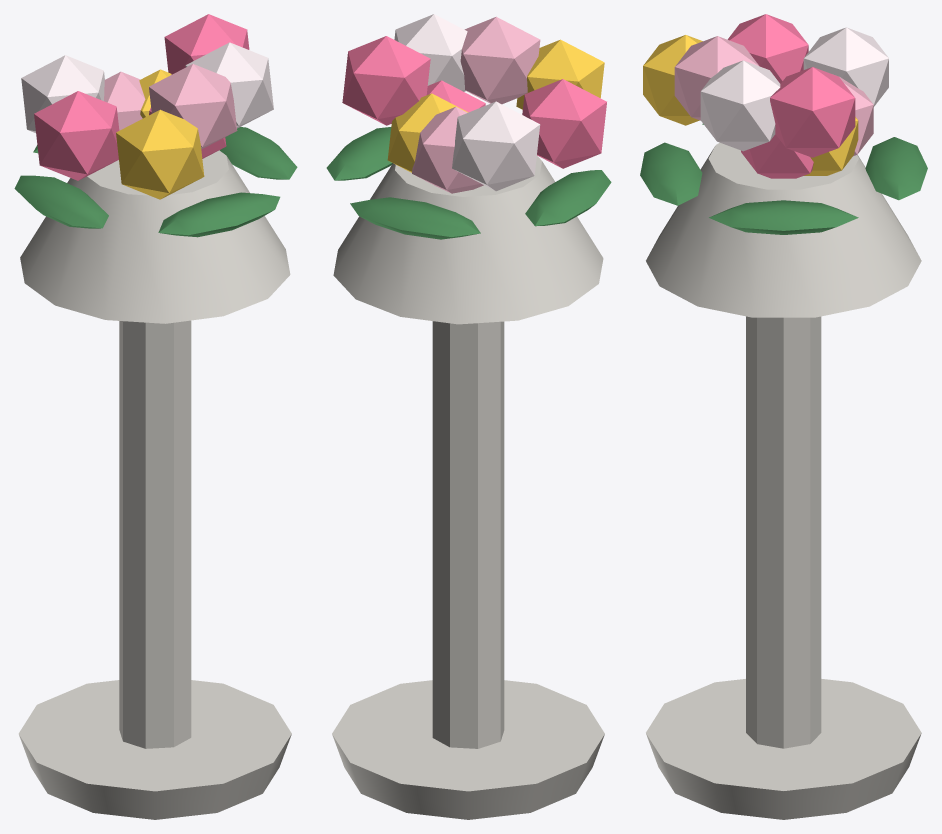
Rendered from foot_flowers.glb.
3 views of the same model, side by side, from view 1: azimuth 30°, elevation 25°; view 2: azimuth 150°, elevation 25°; view 3: azimuth 270°, elevation 25° (orthographic).
Parts seen in each view (by area): view 1: FootFlowers_body; view 2: FootFlowers_body; view 3: FootFlowers_body.
Boxes of the visible parts, bbox=[...] form: FootFlowers_body: bbox=[14, 14, 297, 819]; FootFlowers_body: bbox=[326, 14, 611, 819]; FootFlowers_body: bbox=[640, 14, 927, 819].
Size of the model in its own units: 0.4611 by 1.29 by 0.459.
